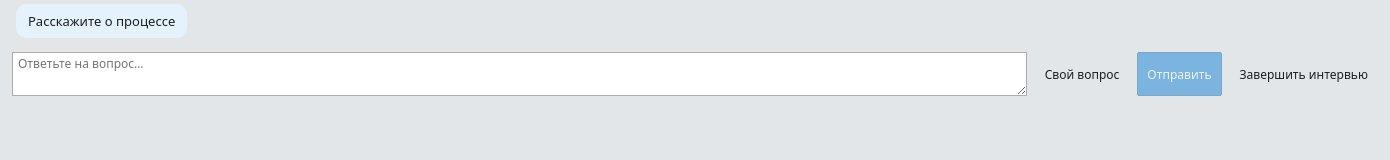
Test: чат интервью: свой вопрос интервьюера › обычный ввод — ответ владельца; «Свой вопрос» переключает поле на вопрос, после отправки возвращает ответ
In the text box with placeholder "Ответьте на вопрос…": (519, 74) [12,52,1027,96], type "Закупки ведёт отдел снабжения"
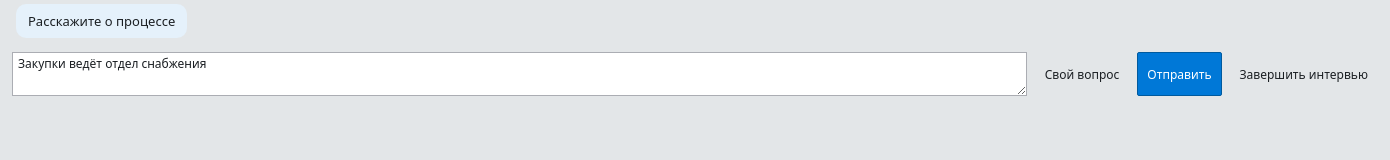
Click the button "Отправить": (1180, 74) [1137,52,1222,96]
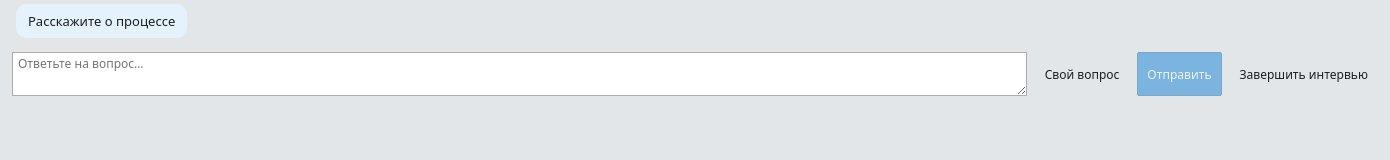
Click the button "Свой вопрос": (1082, 74) [1035,52,1129,96]
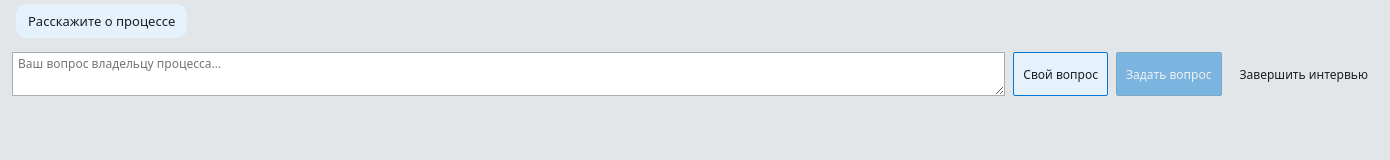
Check: the button "Задать вопрос" is disabled, box [1116,52,1222,96]
In the text box with placeholder "Ваш вопрос владельцу процесса…": (509, 74) [12,52,1005,96], type "  Кто заменяет директора?  "
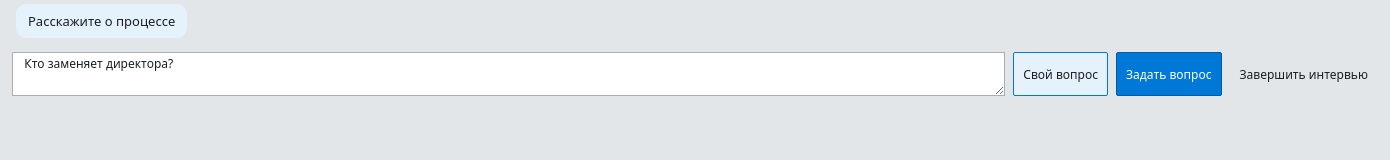
Click the button "Задать вопрос": (1169, 74) [1116,52,1222,96]
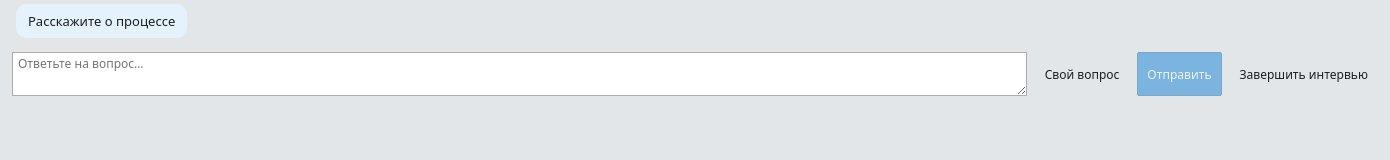
Check: the button "Отправить" is shown, box [1137,52,1222,96]
